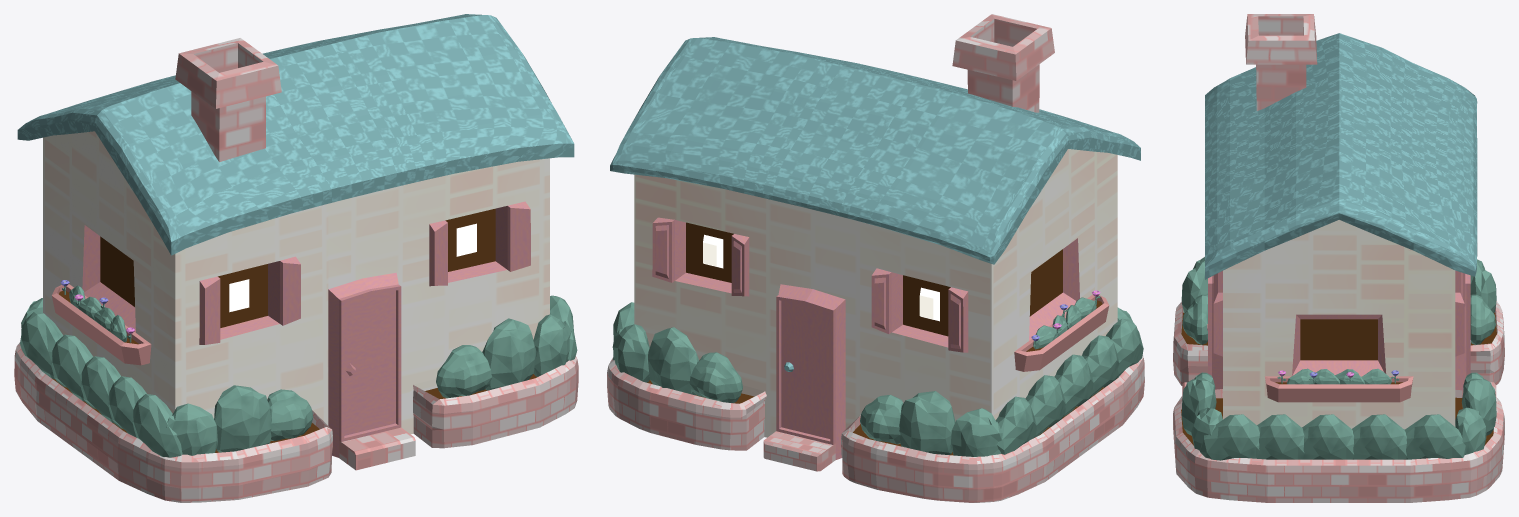
File: house.RPG63 deleted materials.fbx
3 views of the same model, side by side, from view 1: azimuth 30°, elevation 25°; view 2: azimuth 150°, elevation 25°; view 3: azimuth 270°, elevation 25° (orthographic). The views are drawn at different scales.
Parts seen in each view (by area): view 1: House; view 2: House; view 3: House.
Boxes of the visible parts, x1,y1,x2,y2 form: House: (14, 14, 578, 502); House: (607, 14, 1144, 502); House: (1173, 14, 1504, 502).
Bounding box in the file's own units: 384 × 324 × 286.
